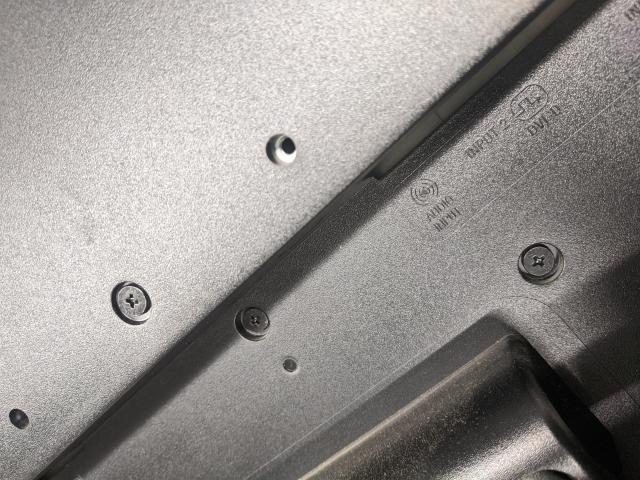CRS: (520, 243, 556, 280), (115, 284, 151, 318), (243, 307, 270, 333)
